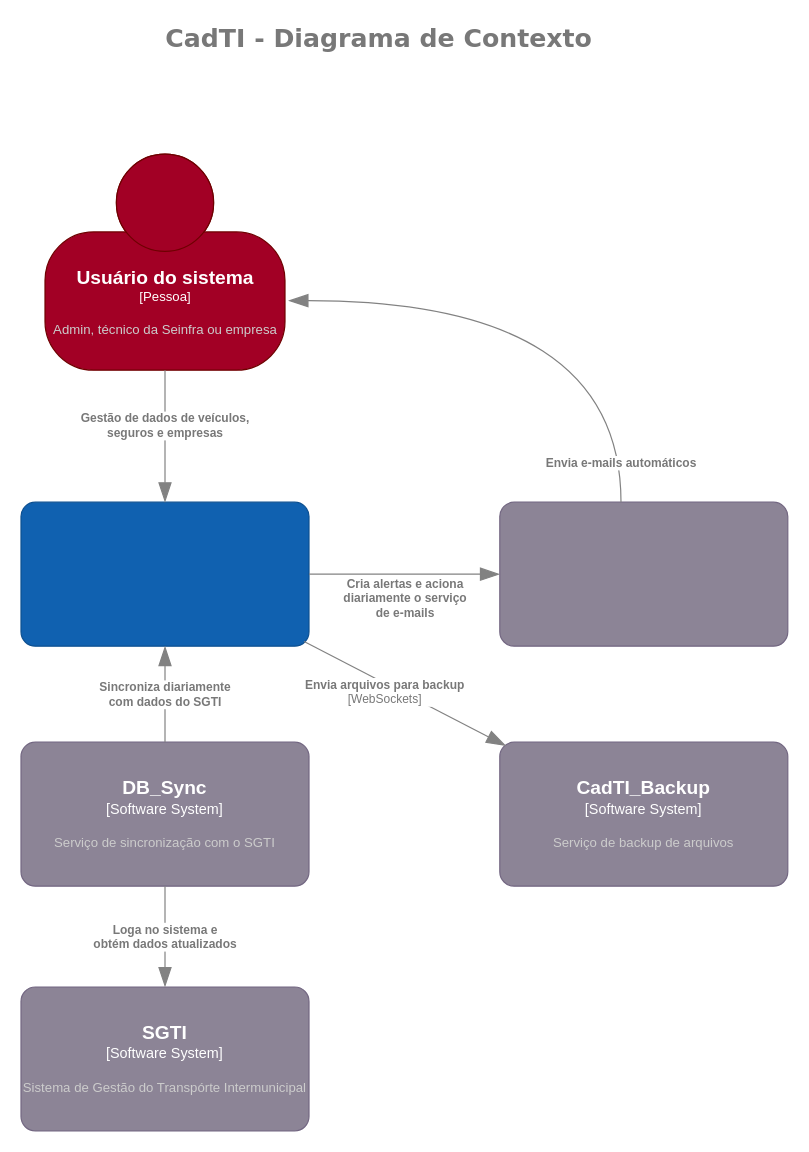
Image size: 809x1152. Some labels were removed from this diagram. Here are the shapes that lost their labels. From the top down, the centre of each, then its label:
(164,573): CadTI [Software System] Sistema CadTI
(643,573): Gmail API [Software System] Serviço de e-mail
